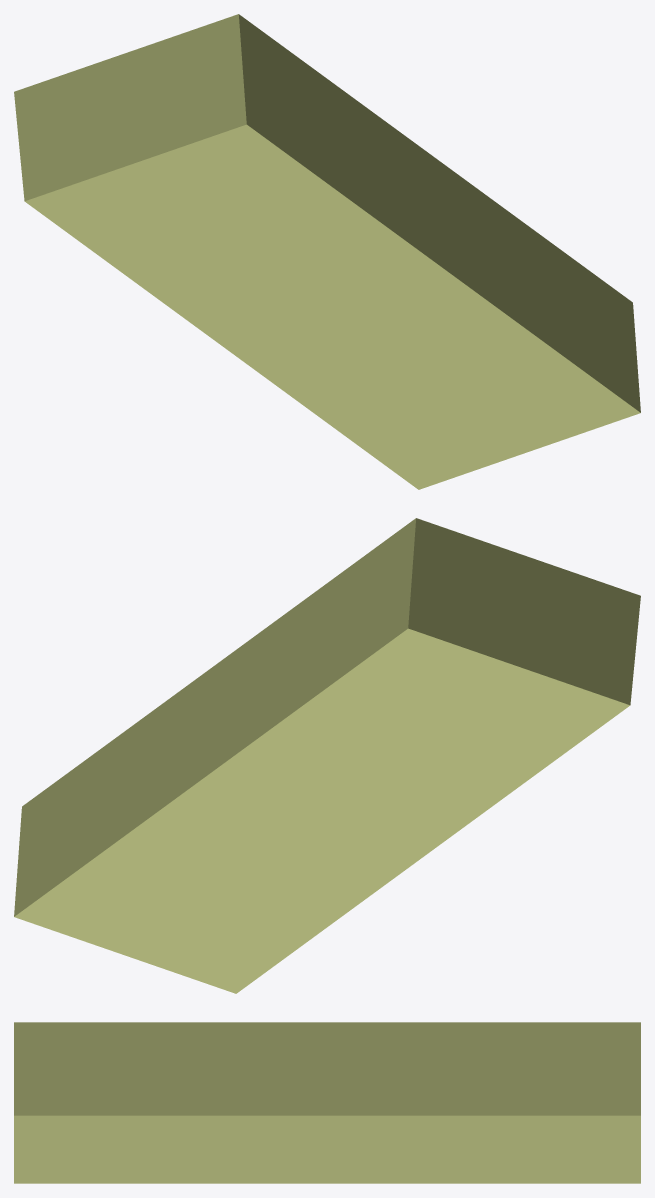
3 views of the same model, one above another, from view 1: azimuth 30°, elevation 25°; view 2: azimuth 150°, elevation 25°; view 3: azimuth 270°, elevation 25° (orthographic). The views are drawn at different scales.
Visible parts, largest first — view 1: 0_2_3_3_3_1_0_1_3_1_0_3_0; view 2: 0_2_3_3_3_1_0_1_3_1_0_3_0; view 3: 0_2_3_3_3_1_0_1_3_1_0_3_0.
Boxes of the visible parts, bbox=[...] form: 0_2_3_3_3_1_0_1_3_1_0_3_0: bbox=[14, 14, 640, 489]; 0_2_3_3_3_1_0_1_3_1_0_3_0: bbox=[14, 518, 640, 993]; 0_2_3_3_3_1_0_1_3_1_0_3_0: bbox=[14, 1022, 640, 1183].
Size of the model in its own units: 3.07 by 1.7 by 9.
